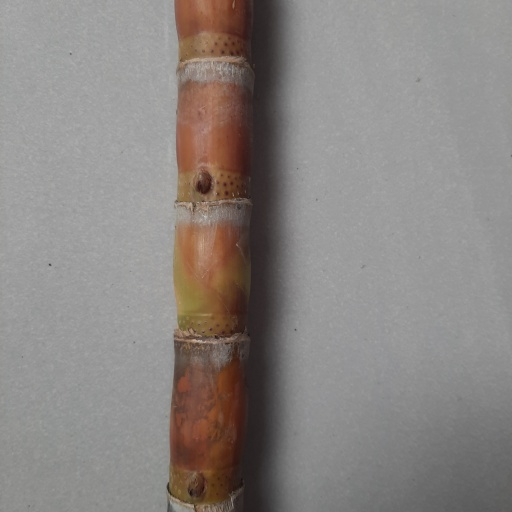Bud: (191, 169, 215, 197), (184, 472, 207, 501)
